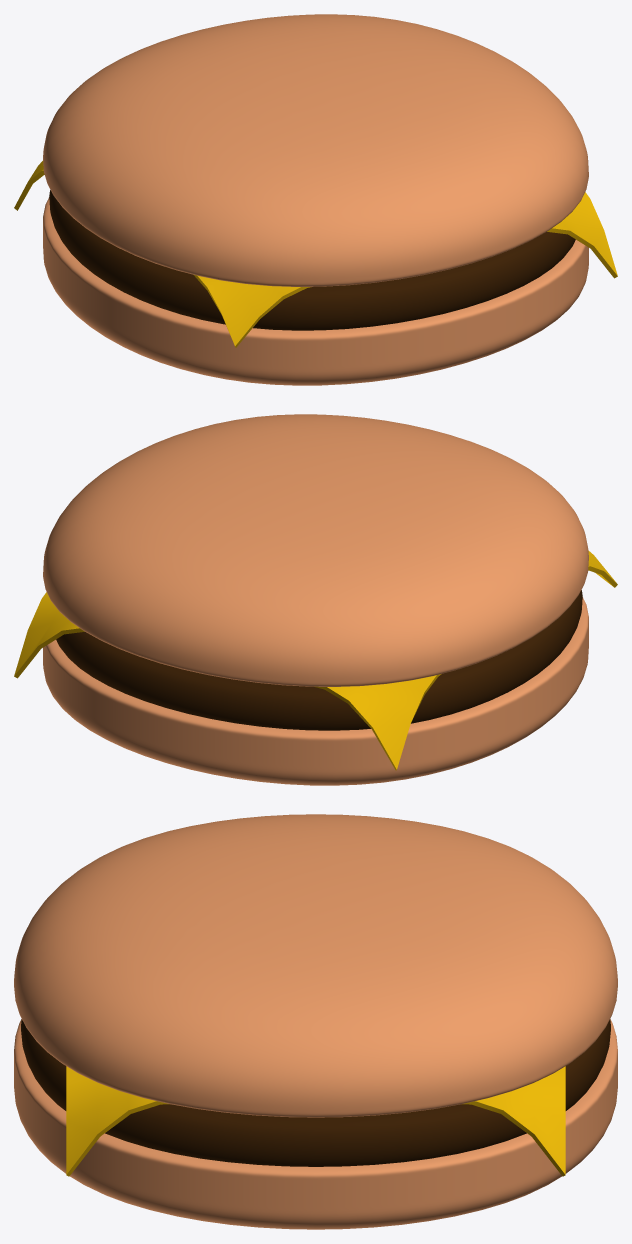
The model's file is hamburger.glb.
The picture shows the model from 3 angles, top to bottom: view 1: azimuth 30°, elevation 25°; view 2: azimuth 150°, elevation 25°; view 3: azimuth 270°, elevation 25°; orthographic projection. The views are drawn at different scales.
Visible parts, largest first — view 1: Cube.002, Cube, Cube.001, Plane; view 2: Cube.002, Cube, Cube.001, Plane; view 3: Cube.002, Cube, Cube.001, Plane.
Part boxes in pixels (x1=…): Cube.002: x1=43, y1=14, x2=588, y2=286; Cube: x1=43, y1=197, x2=588, y2=385; Cube.001: x1=49, y1=190, x2=575, y2=330; Plane: x1=14, y1=161, x2=617, y2=347; Cube.002: x1=43, y1=414, x2=588, y2=686; Cube: x1=43, y1=597, x2=588, y2=785; Cube.001: x1=56, y1=590, x2=582, y2=730; Plane: x1=14, y1=550, x2=617, y2=770; Cube.002: x1=14, y1=814, x2=617, y2=1117; Cube: x1=14, y1=1019, x2=617, y2=1229; Cube.001: x1=21, y1=1019, x2=610, y2=1166; Plane: x1=66, y1=1066, x2=565, y2=1176.
Size of the model in its own units: 9.16 by 4.05 by 9.16.
